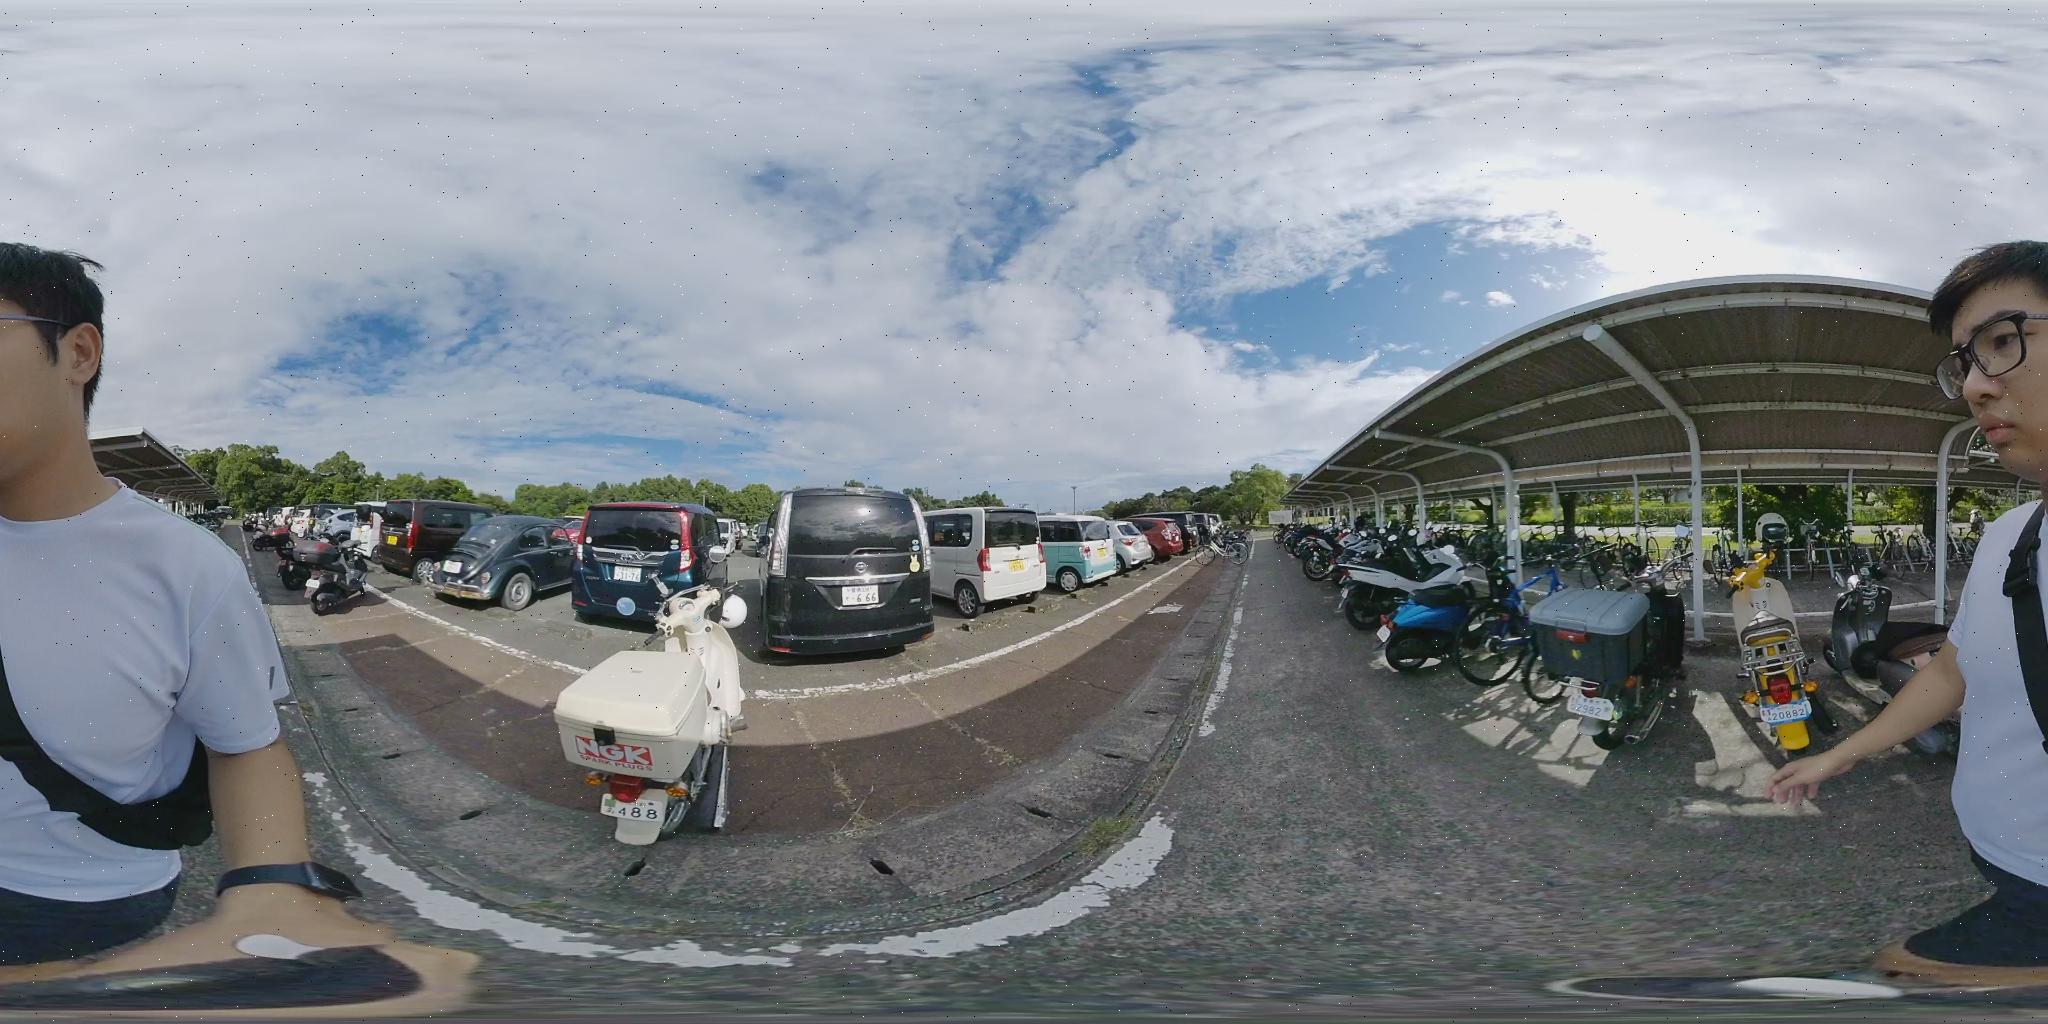car: (759, 491, 939, 661), (434, 516, 585, 614), (922, 509, 1050, 606), (371, 502, 496, 579), (1131, 517, 1194, 563)
